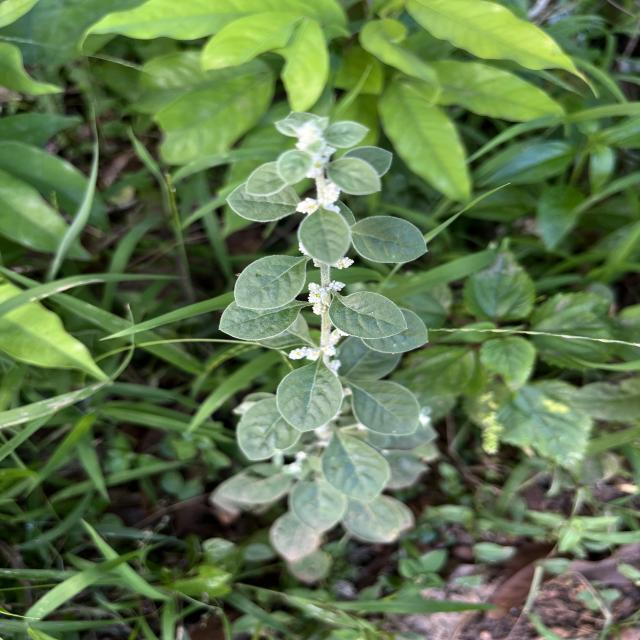Aerva lanata: (232, 253, 309, 310), (326, 288, 410, 340), (350, 213, 430, 266), (216, 296, 304, 342)
